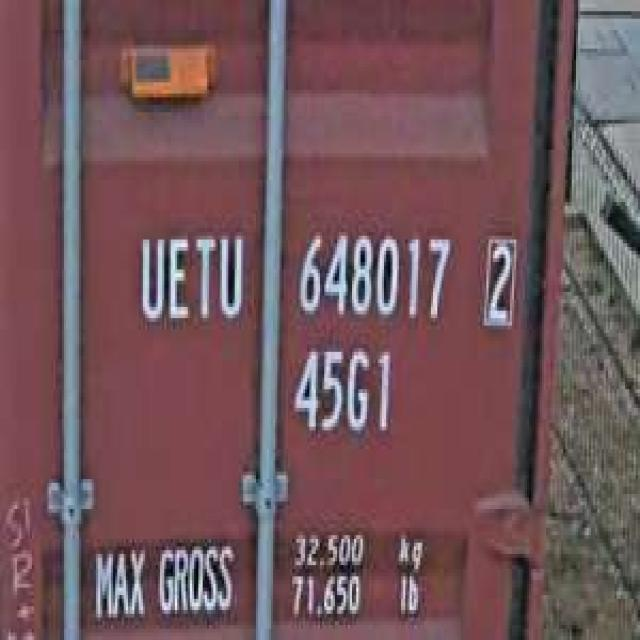dv: (478, 224, 520, 337)
owner: (134, 221, 248, 333)
serial: (288, 217, 454, 329)
size: (286, 337, 397, 449)
